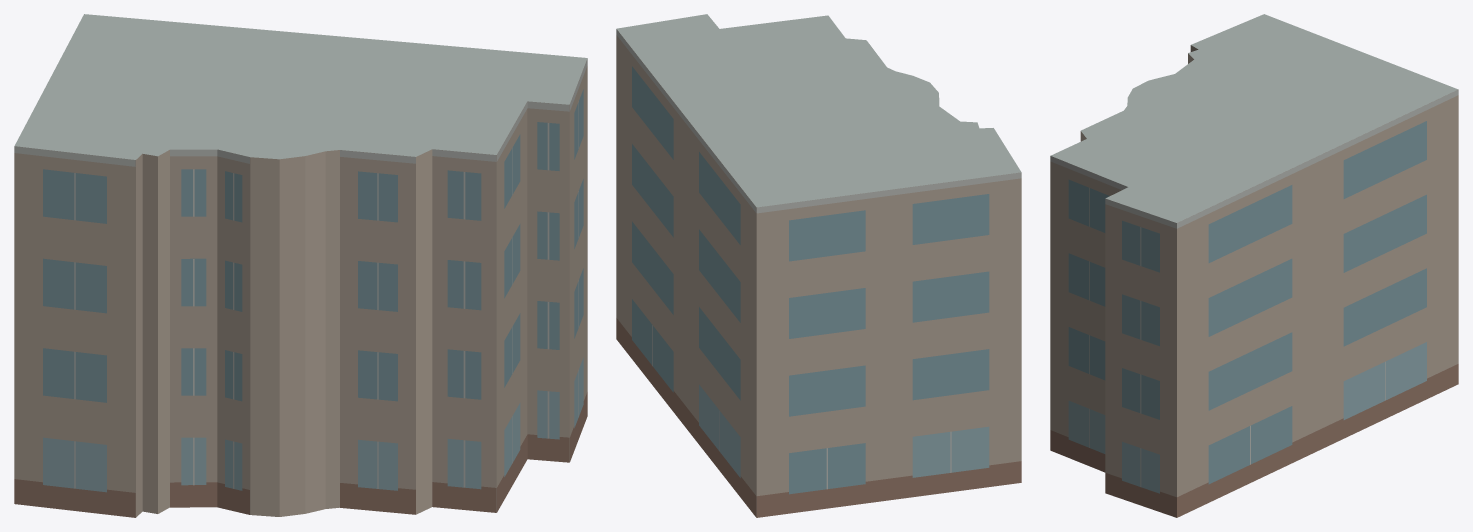
File: survey-upis-32533569.glb
3 renders of one model, left to right at view 1: azimuth 30°, elevation 25°; view 2: azimuth 150°, elevation 25°; view 3: azimuth 270°, elevation 25°, orthographic. The views are drawn at different scales.
Visible parts, largest first — view 1: survey-upis-32533569.tmp; view 2: survey-upis-32533569.tmp; view 3: survey-upis-32533569.tmp.
Boxes of the visible parts, x1,y1,x2,y2 form: survey-upis-32533569.tmp: [14, 14, 587, 517]; survey-upis-32533569.tmp: [616, 14, 1021, 517]; survey-upis-32533569.tmp: [1050, 14, 1458, 517].
Bounding box in the file's own units: 19.33 × 12.7 × 15.94.
